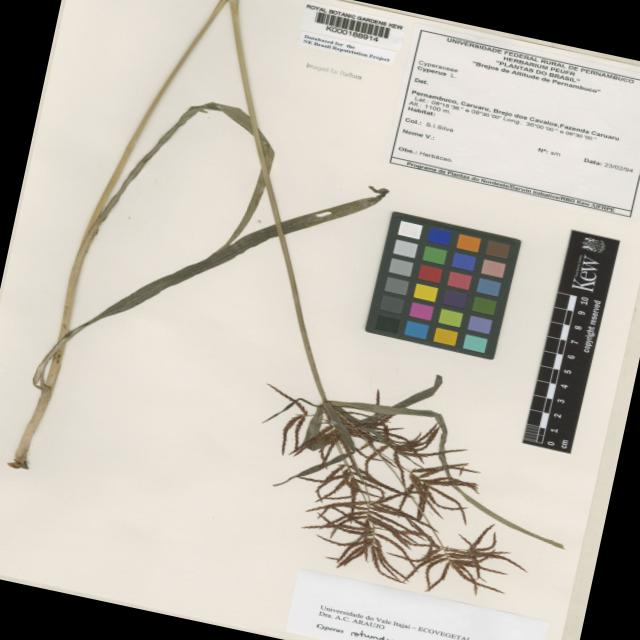cyperus: (232, 358, 532, 616)
